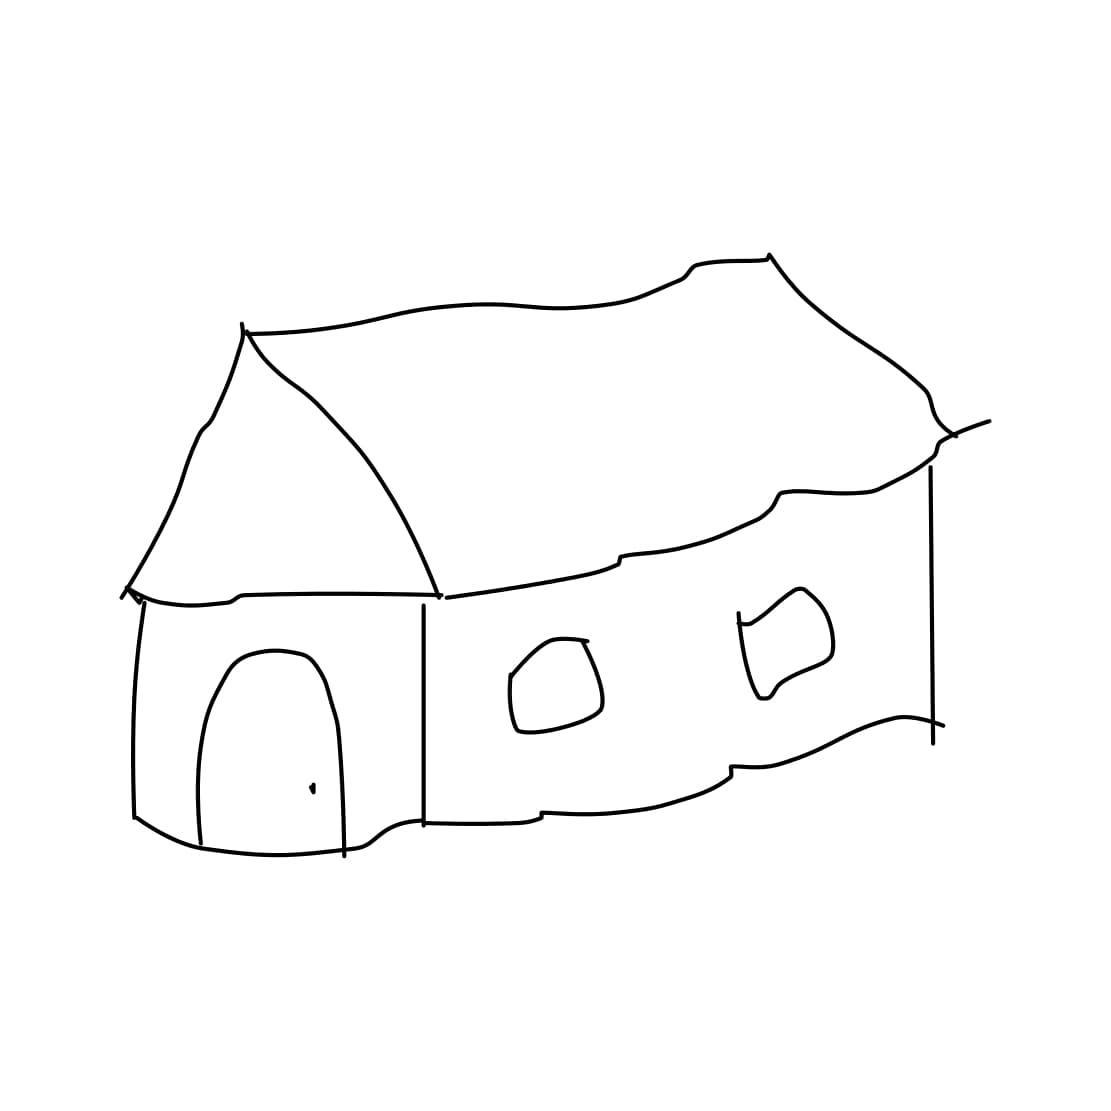House: (44, 243, 1010, 866)
